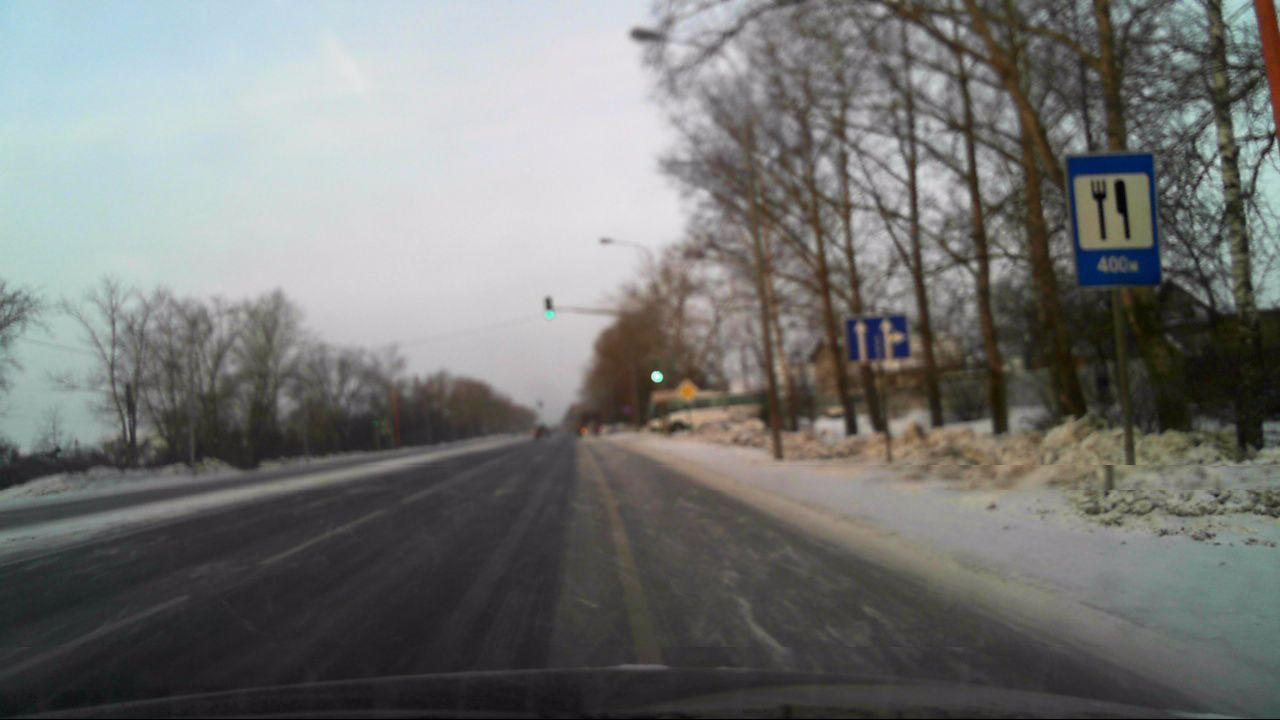2_1: (673, 377, 701, 405)
5_15_1: (844, 309, 915, 363)
7_7: (1066, 153, 1158, 284)
